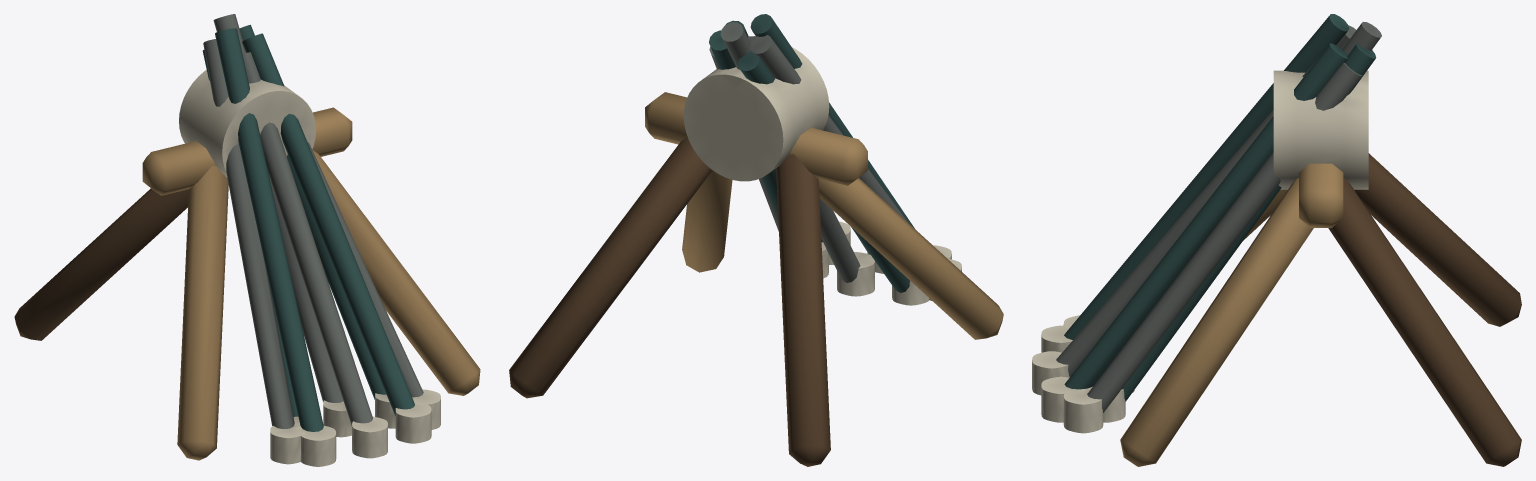
The model's file is drill_steels_a.glb.
3 renders of one model, left to right at view 1: azimuth 30°, elevation 25°; view 2: azimuth 150°, elevation 25°; view 3: azimuth 270°, elevation 25°, orthographic. The views are drawn at different scales.
Visible parts, largest first — view 1: Surface; view 2: Surface; view 3: Surface.
Part boxes in pixels (box(x1,y1,x2,y2)): Surface: box(14, 14, 480, 466); Surface: box(509, 14, 1003, 466); Surface: box(1032, 14, 1521, 466).
Size of the model in its own units: 1.2 by 1.3 by 1.55.
